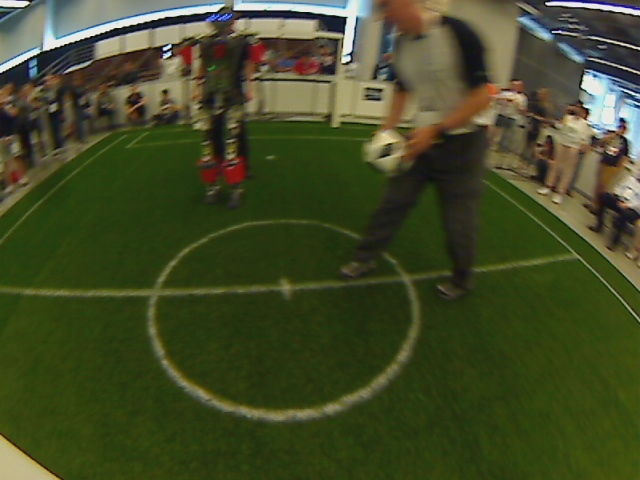ball: (366, 127, 412, 177)
